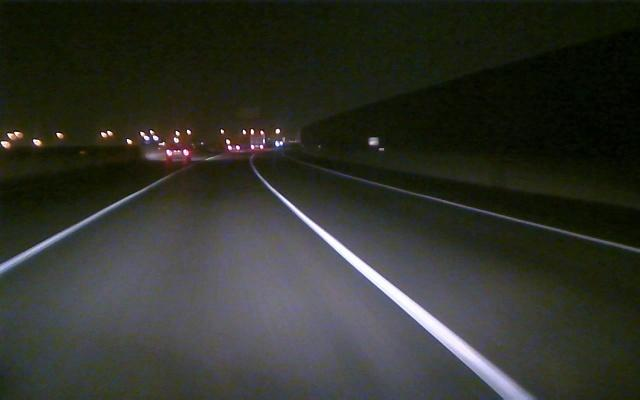lane: (263, 181, 537, 399), (348, 174, 640, 254), (2, 182, 155, 273)
